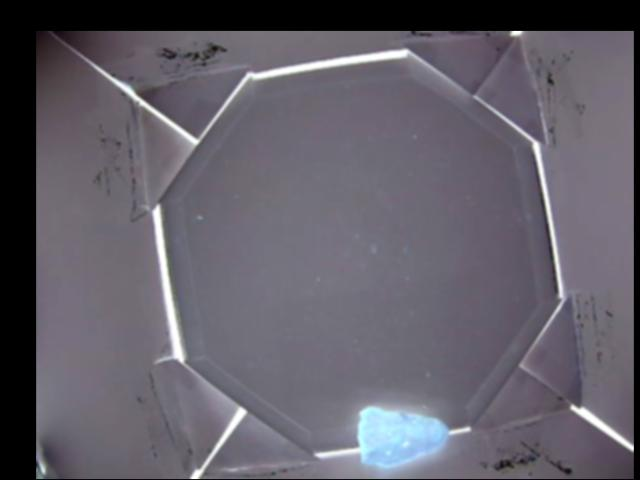Brisk: (357, 407, 447, 465)
